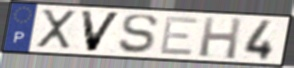4: (242, 18, 276, 62)
E: (158, 15, 201, 57)
H: (197, 15, 244, 61)
S: (117, 13, 160, 54)
V: (78, 9, 124, 53)
X: (36, 8, 78, 50)
